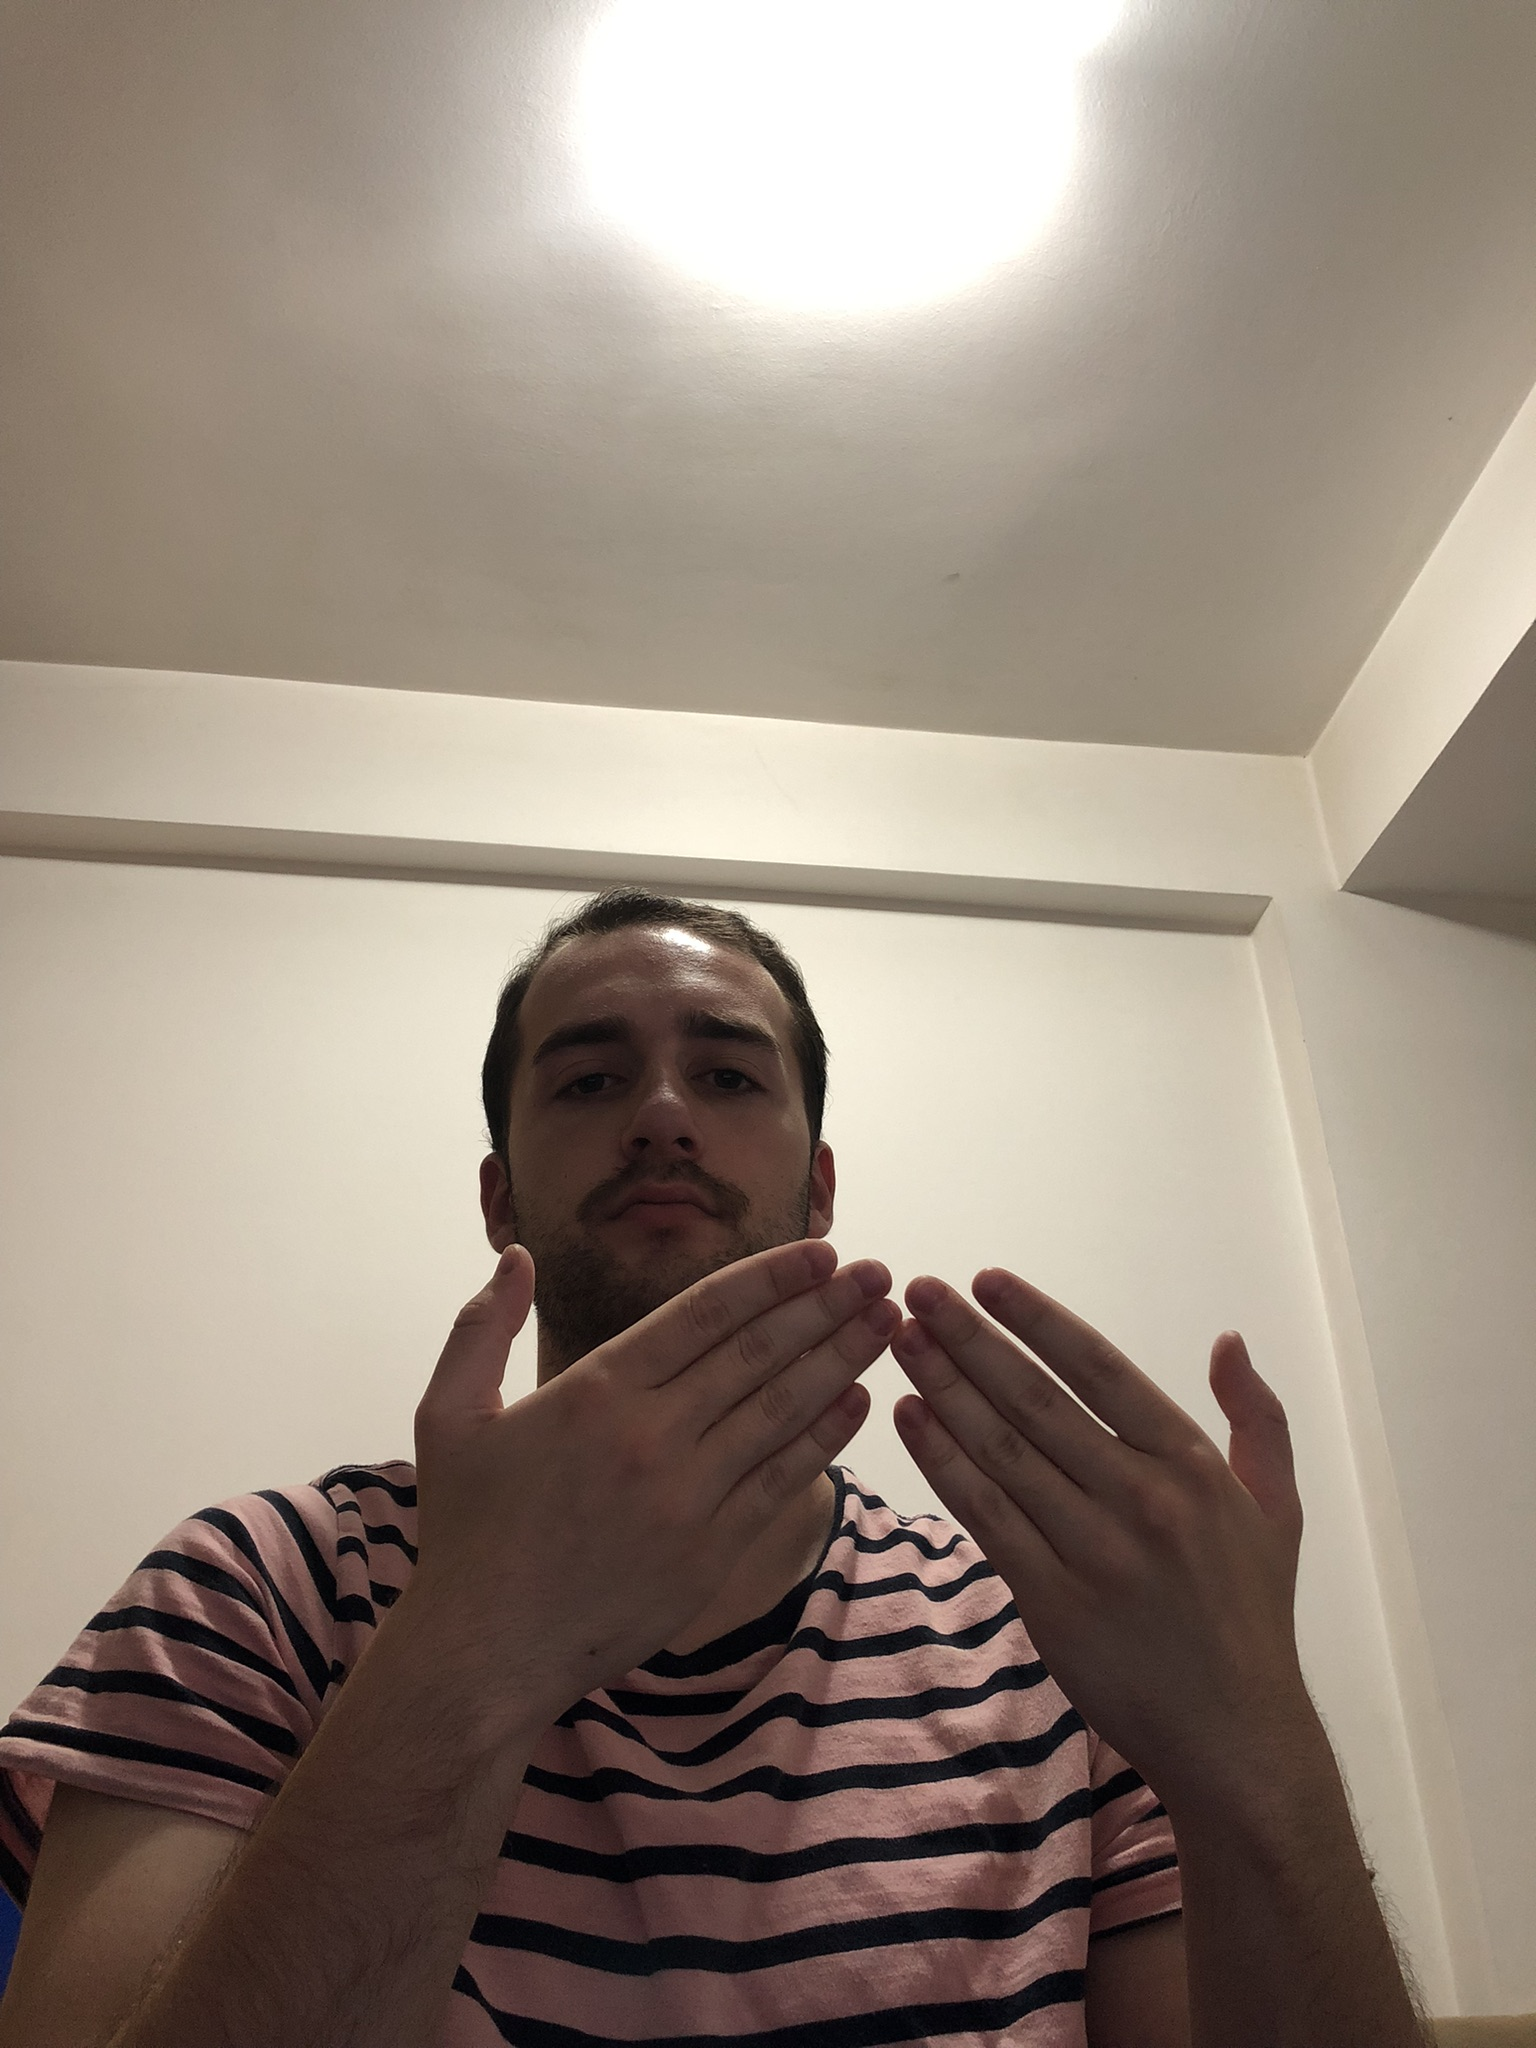Thank You: (411, 1230, 1315, 1830)
